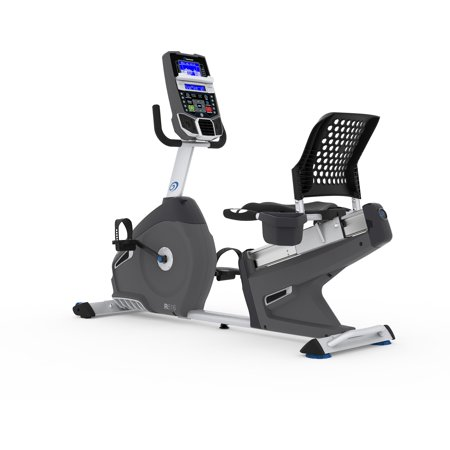gym_bike: (88, 48, 407, 361)
